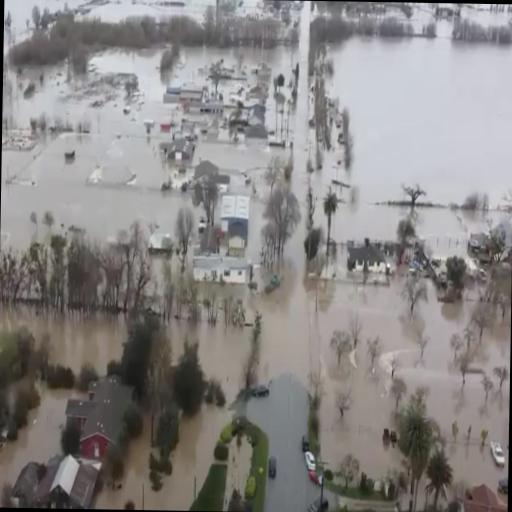flood: (245, 1, 512, 477), (408, 301, 511, 484), (94, 403, 232, 511), (0, 305, 127, 375), (167, 310, 251, 400), (0, 385, 69, 491), (4, 0, 215, 33), (461, 4, 512, 25), (235, 0, 264, 17)
house: (64, 370, 136, 472), (12, 446, 100, 510), (344, 238, 398, 284), (192, 254, 248, 288), (218, 192, 250, 250), (456, 479, 508, 512), (164, 136, 194, 166), (178, 82, 204, 106), (247, 104, 264, 127), (200, 99, 224, 115)
